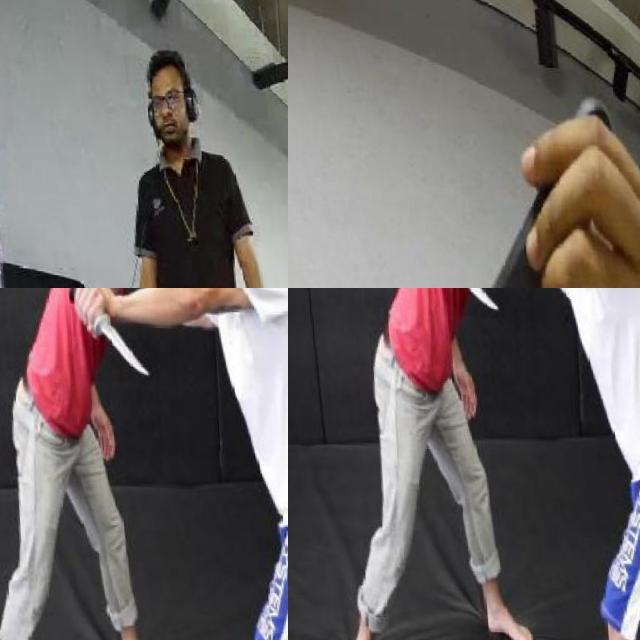-: (62, 288, 149, 381), (412, 288, 502, 338)
